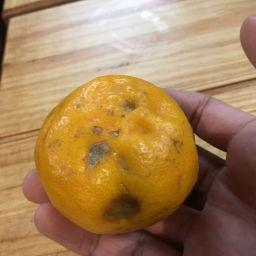Unripe: (33, 75, 199, 235)
